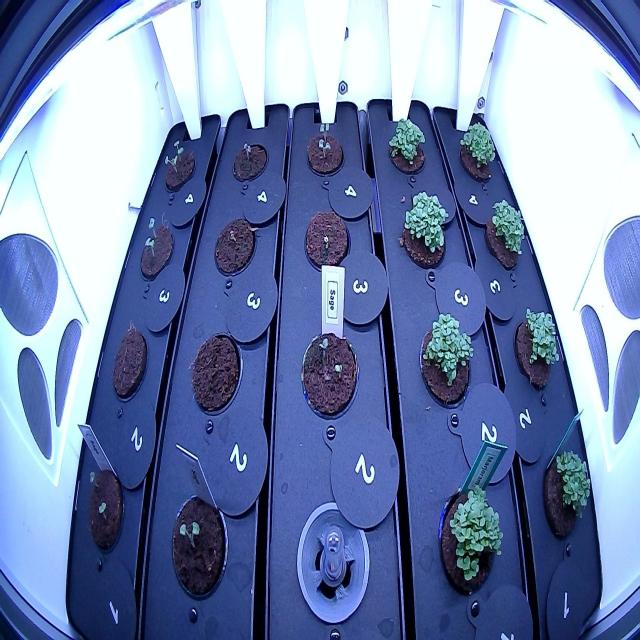germination: (166, 487, 232, 607), (297, 324, 361, 422), (81, 460, 126, 554), (302, 119, 348, 183), (138, 210, 176, 285), (160, 136, 198, 198), (228, 131, 270, 187)
pod: (188, 322, 246, 424), (207, 213, 262, 281), (300, 206, 352, 274), (108, 323, 148, 406)
